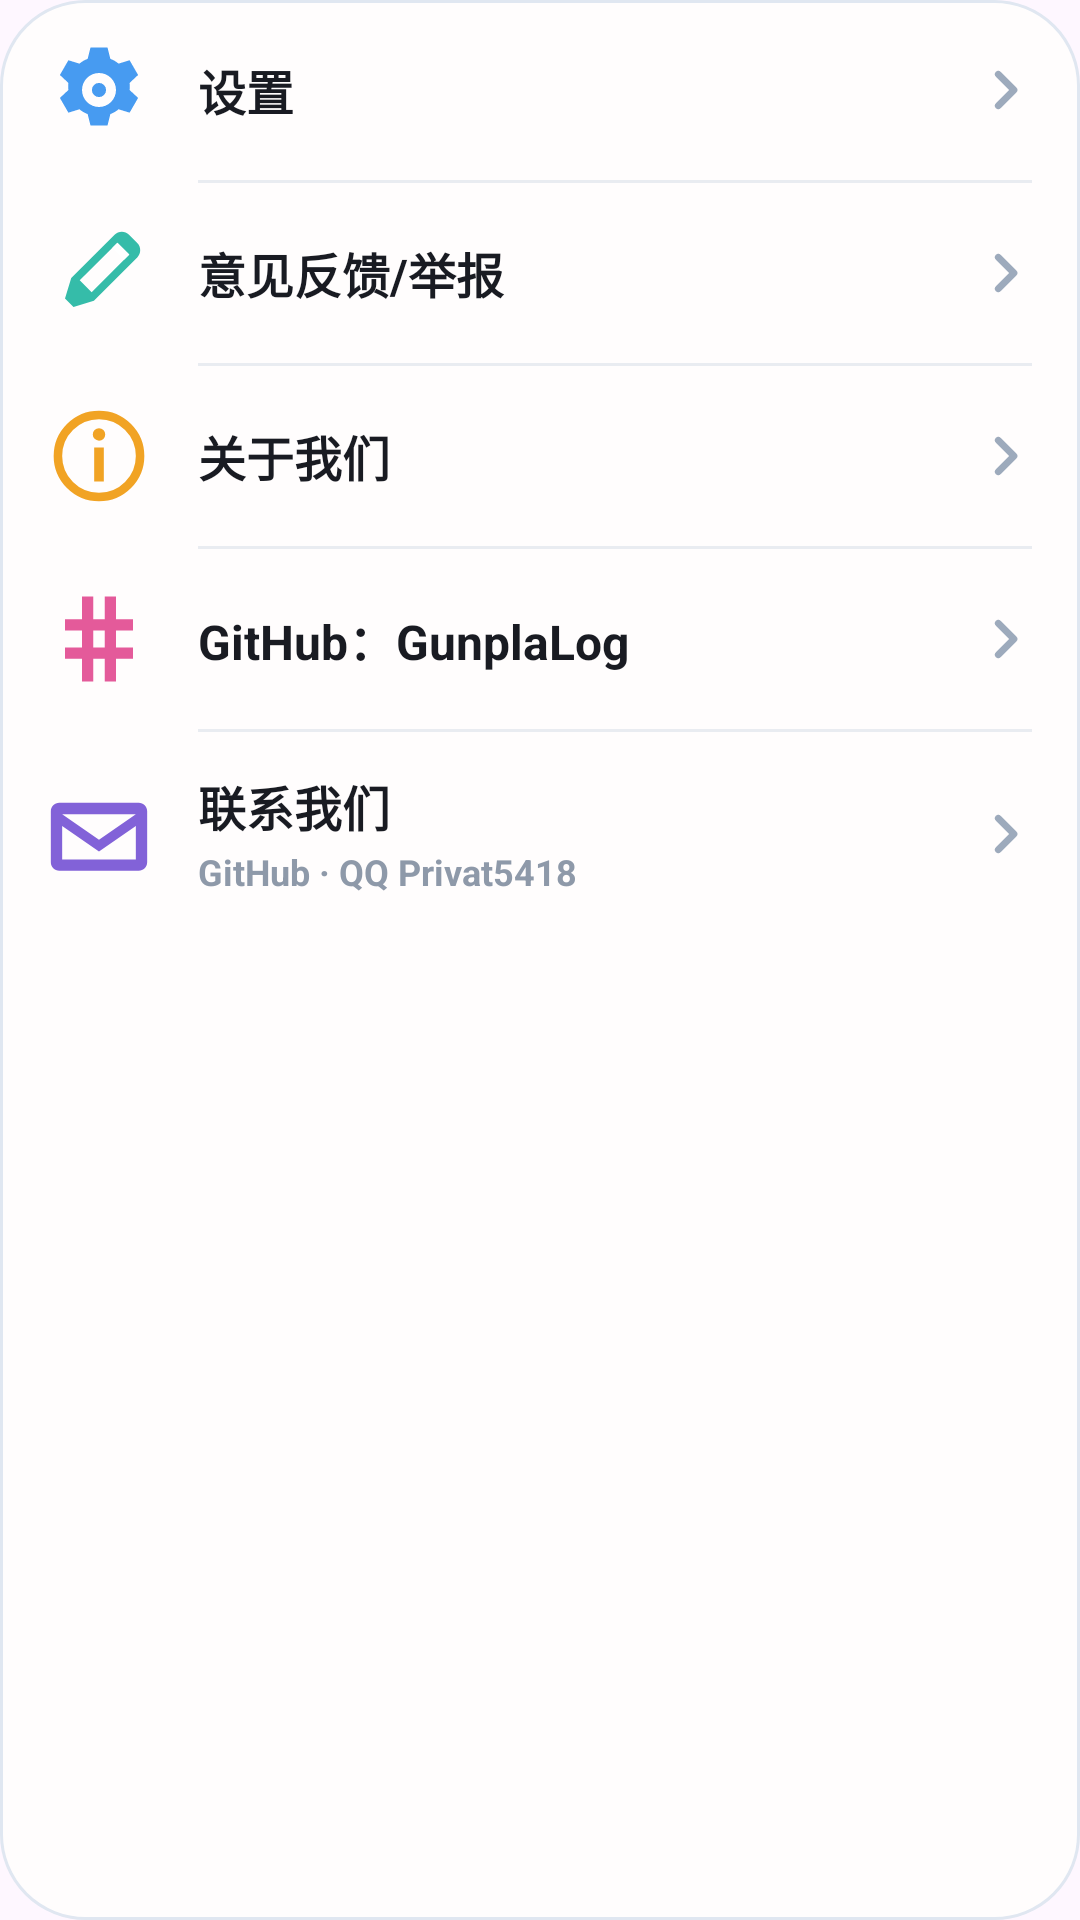

Where icons sit on this 1080×1920 app screen, as {"x1": x1, "y1": y1, "x2": x2, "y2": y2}:
查看关于: {"x1": 994, "y1": 437, "x2": 1018, "y2": 476}
进入反馈: {"x1": 994, "y1": 254, "x2": 1018, "y2": 293}
